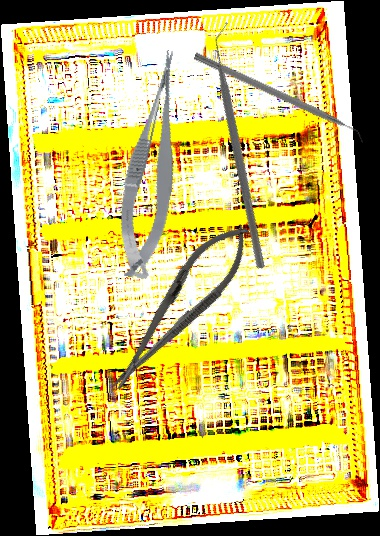Chopper: (119, 20, 369, 271), (189, 51, 368, 149)
Micro Scissor: (101, 47, 208, 283)
Needle Holder: (94, 210, 265, 404)
